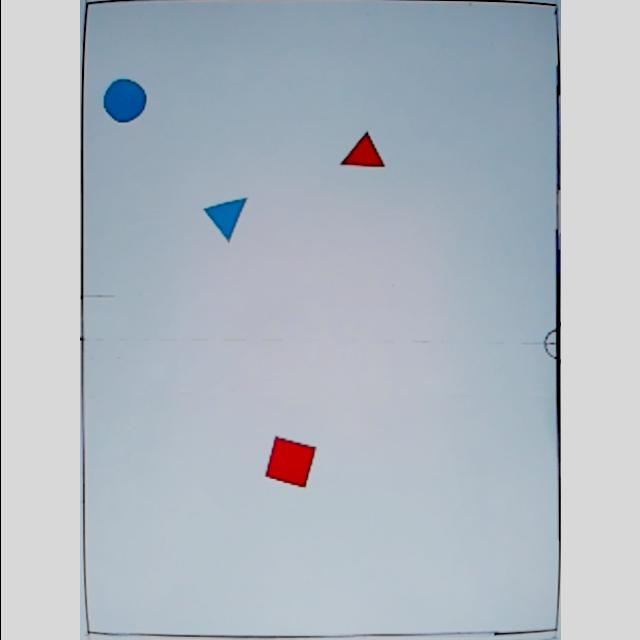blueCircle: (101, 78, 149, 122)
blueTriangle: (203, 196, 250, 242)
redSquare: (266, 435, 316, 487)
redTriangle: (338, 130, 384, 170)
